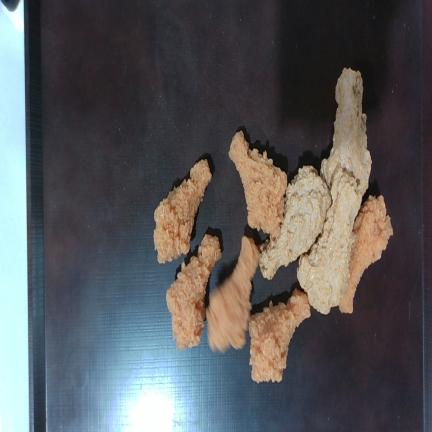chicken: (297, 169, 361, 314), (259, 166, 331, 279), (321, 68, 371, 195), (166, 234, 221, 349), (339, 196, 393, 313), (228, 131, 287, 237), (206, 236, 259, 352), (154, 159, 212, 262), (249, 289, 310, 382)
